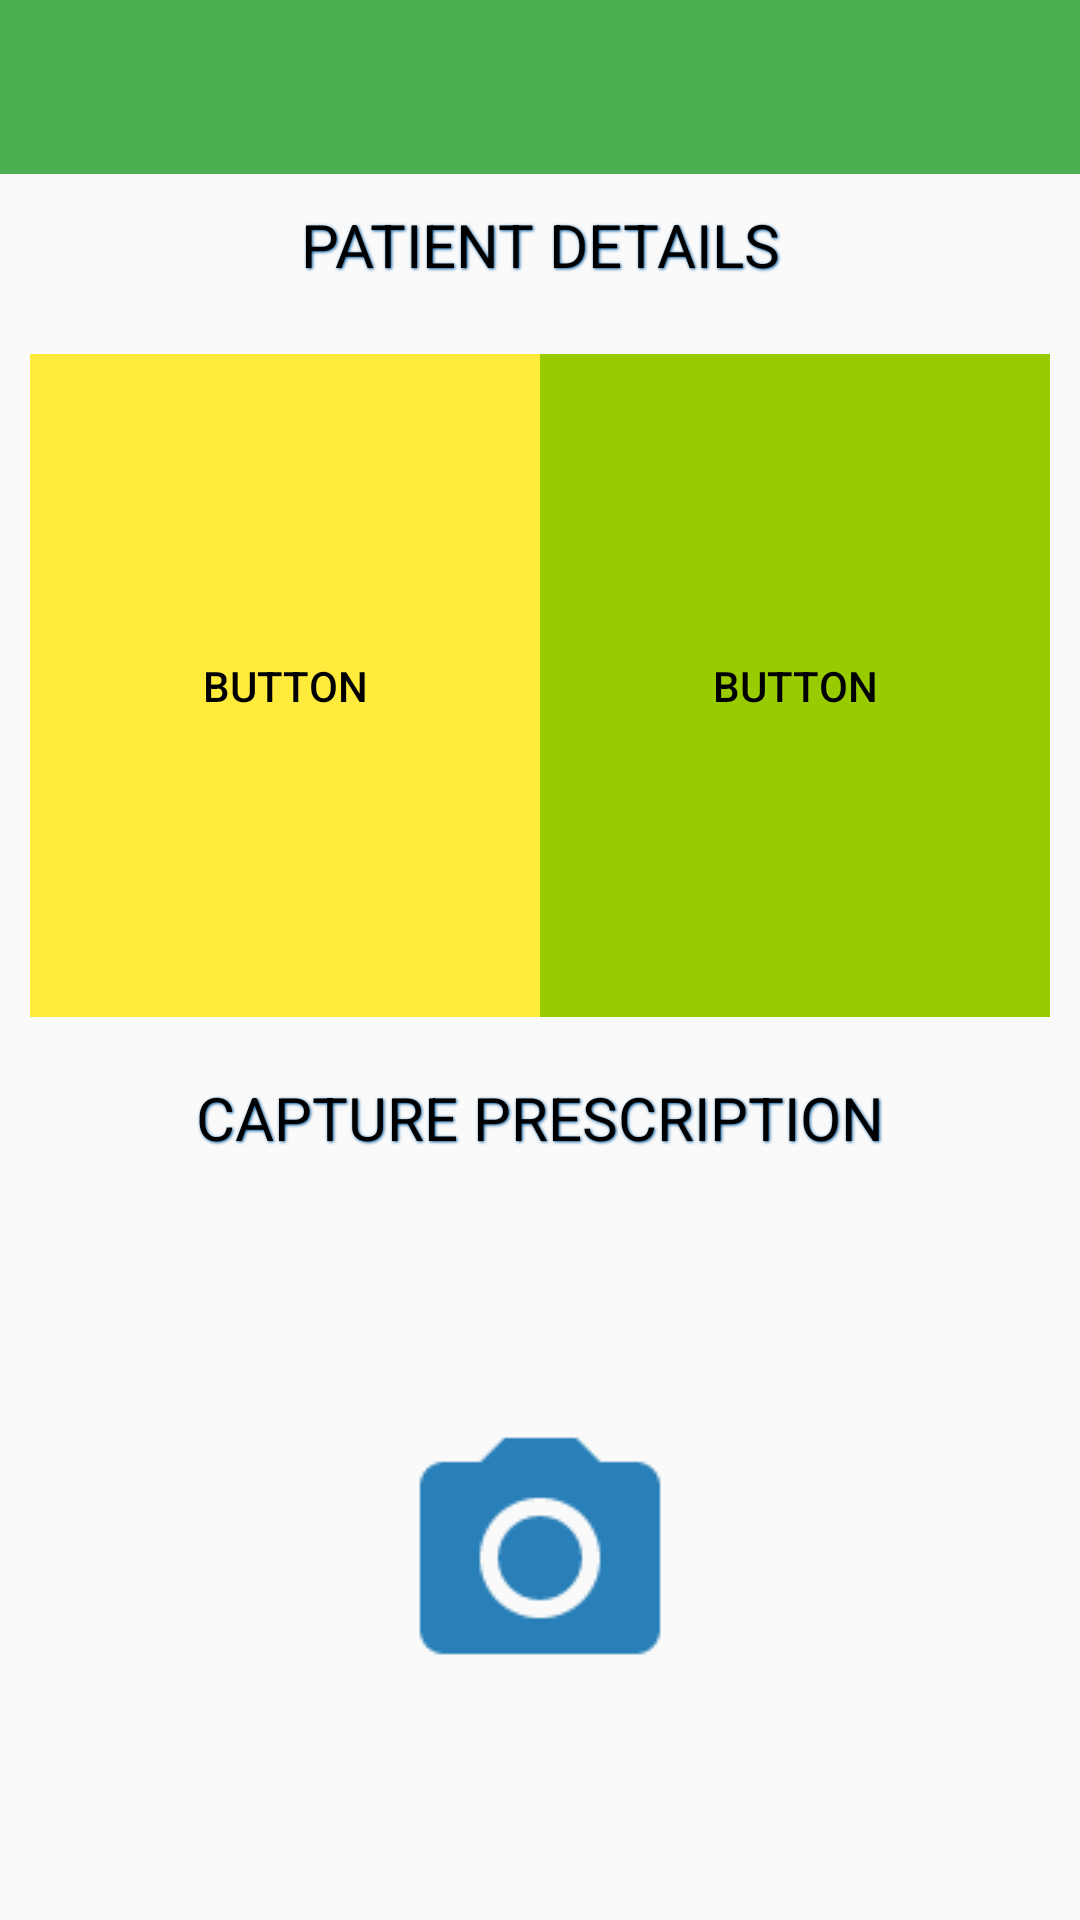

Icon bounding boxes for this 1080 × 1920 phone screenshot, format (left=x1, top=y1, right=x2, bottom=y2):
cam: (left=419, top=1437, right=661, bottom=1655)
